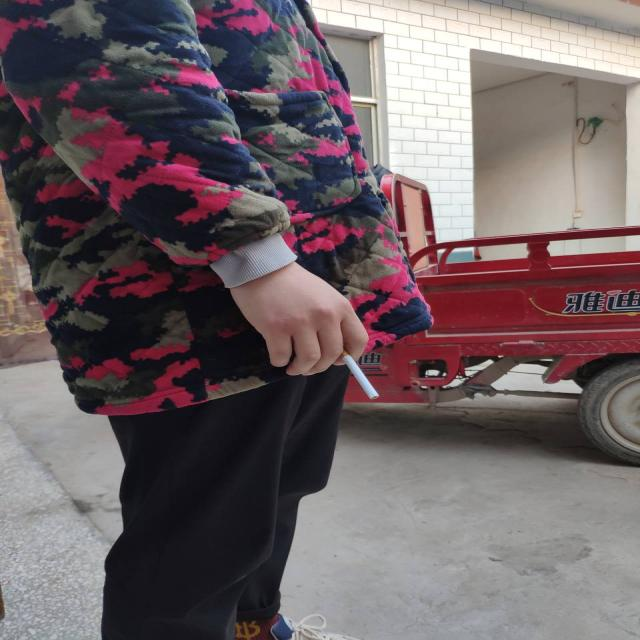smoke: (336, 345, 388, 404)
